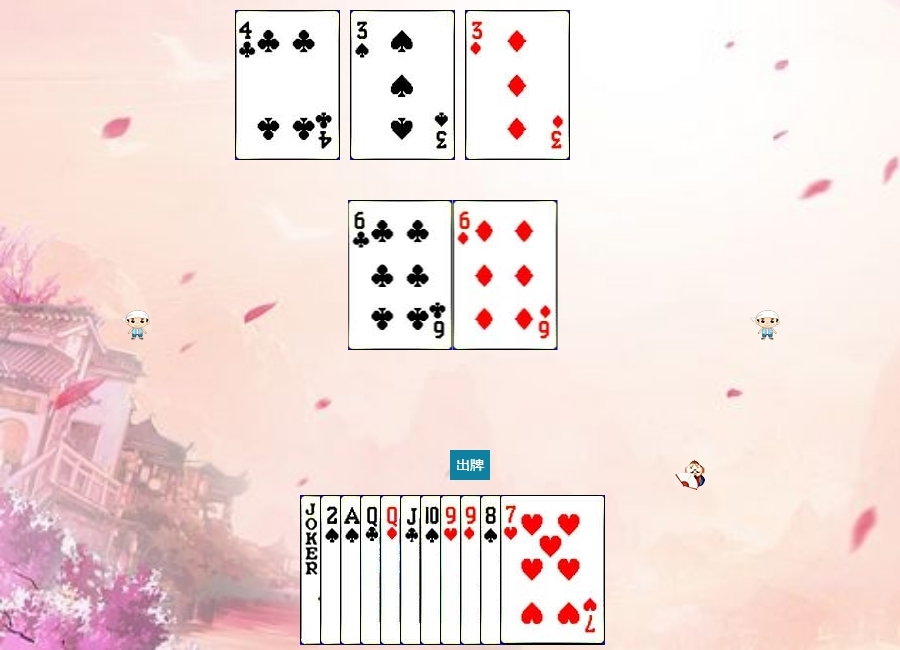10~4: (420, 495, 525, 645)
11~2: (400, 495, 505, 645)
12~1: (380, 495, 485, 645)
12~2: (360, 495, 465, 645)
14~4: (340, 495, 445, 645)
15~4: (320, 495, 425, 645)
17~3: (300, 495, 405, 645)
3~1: (465, 10, 570, 160)
3~4: (350, 10, 455, 160)
4~2: (235, 10, 340, 160)
6~1: (453, 200, 558, 350)
6~2: (348, 200, 453, 350)
7~3: (500, 495, 605, 645)
8~4: (480, 495, 585, 645)
9~1: (460, 495, 565, 645)
9~3: (440, 495, 545, 645)
